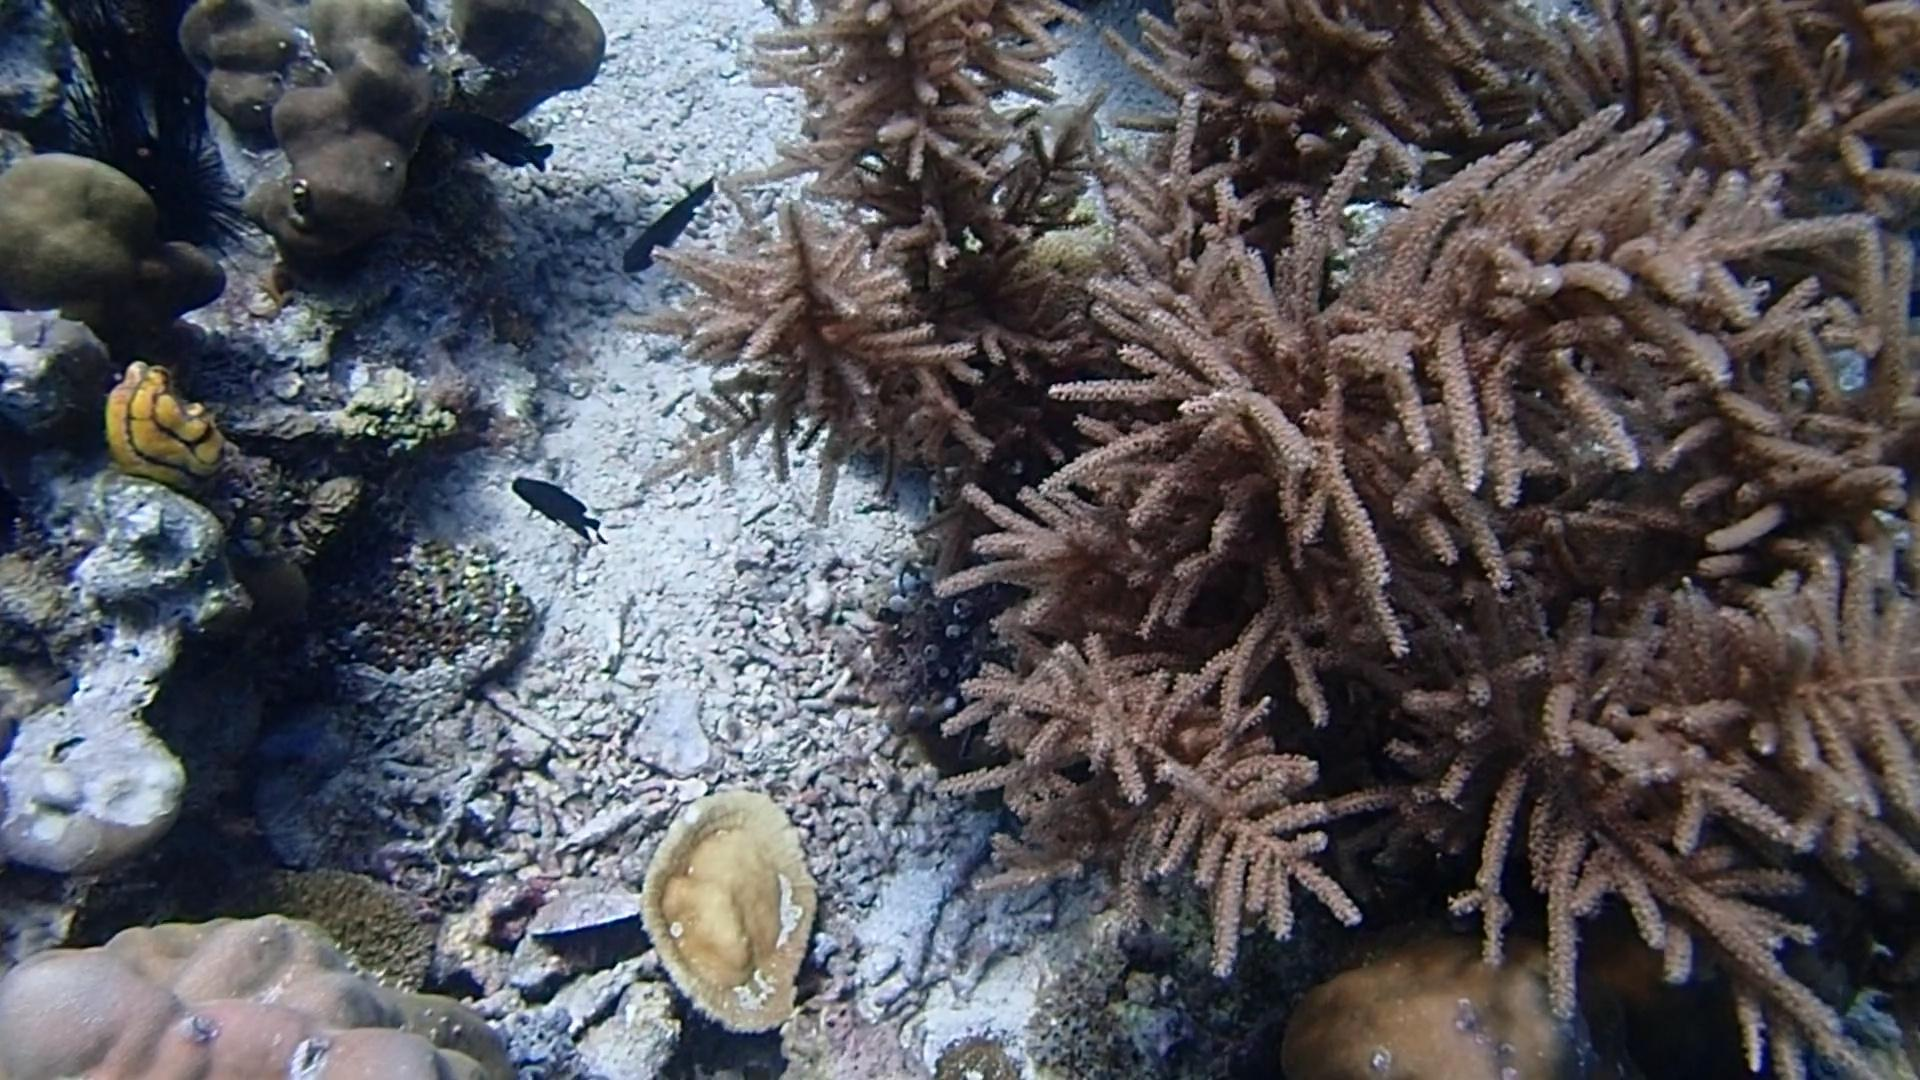Dark Fish: (611, 165, 727, 277), (440, 103, 570, 185), (510, 468, 613, 549)
